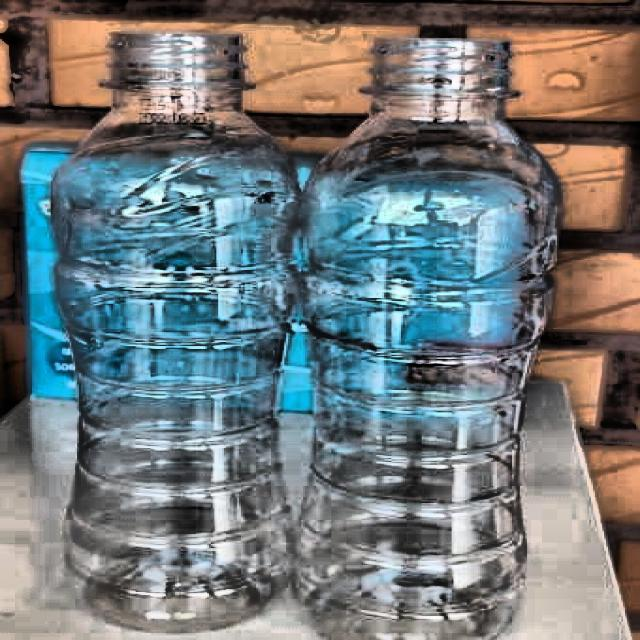Bottles: (56, 27, 293, 634)
